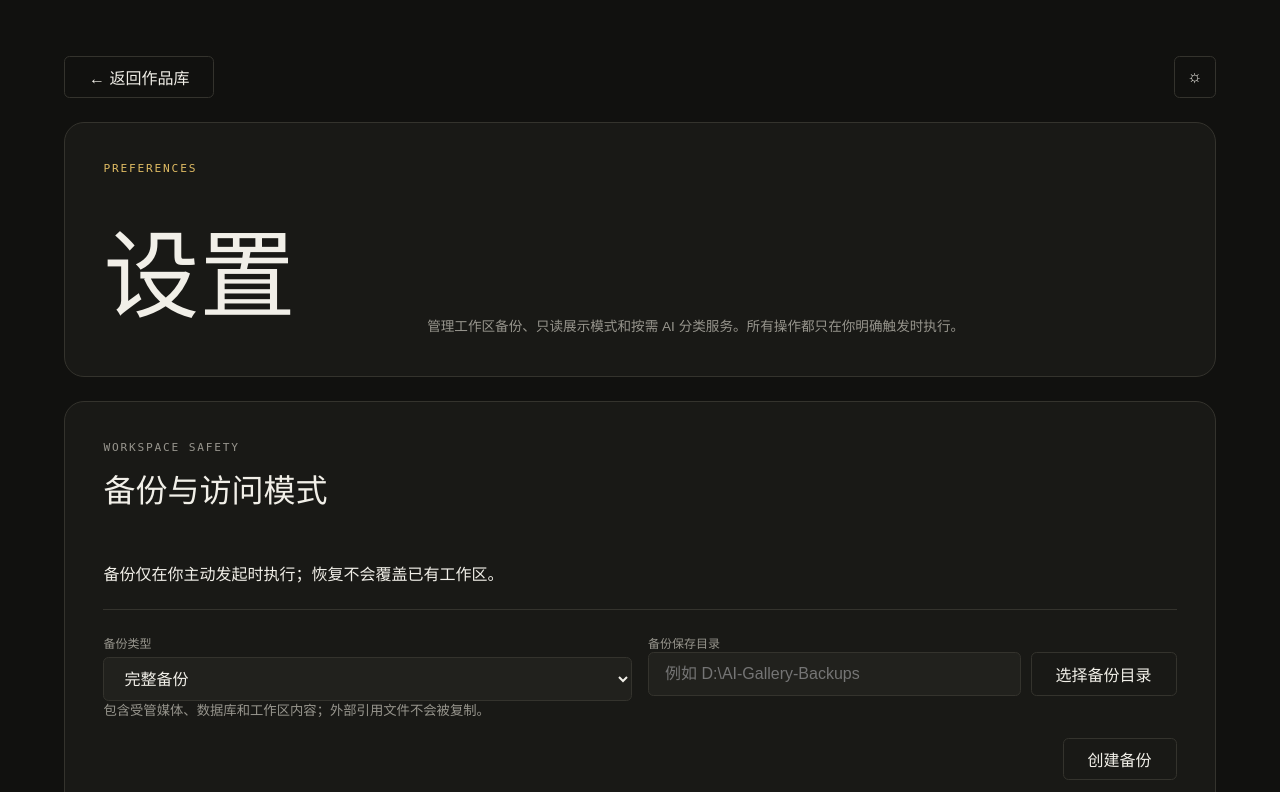
设置页 › 路径为空时给出具体提示，不伪装成工作区不可用
Click the button "创建备份" at (1120, 759), box [1063, 738, 1177, 780]
(page scrolled)
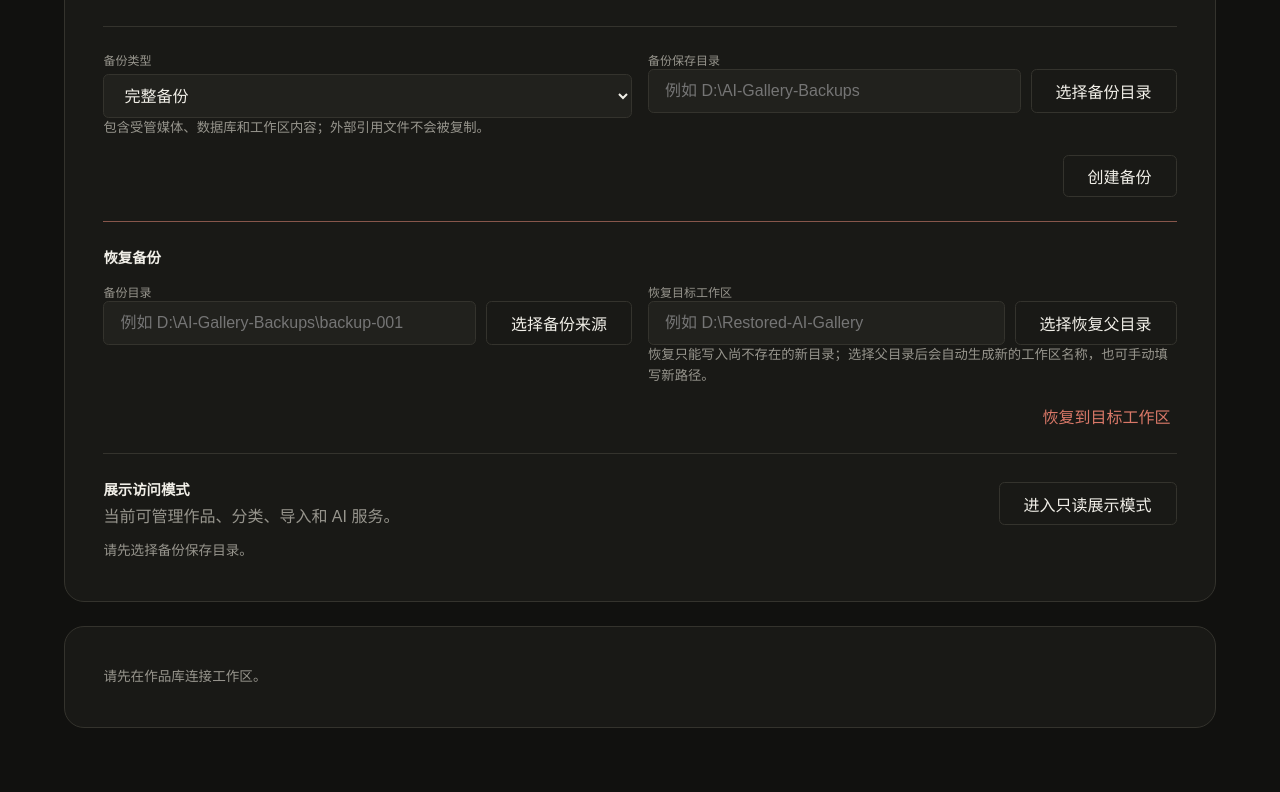
expect the text "请先选择备份保存目录。" is shown: met, box [103, 544, 253, 558]
